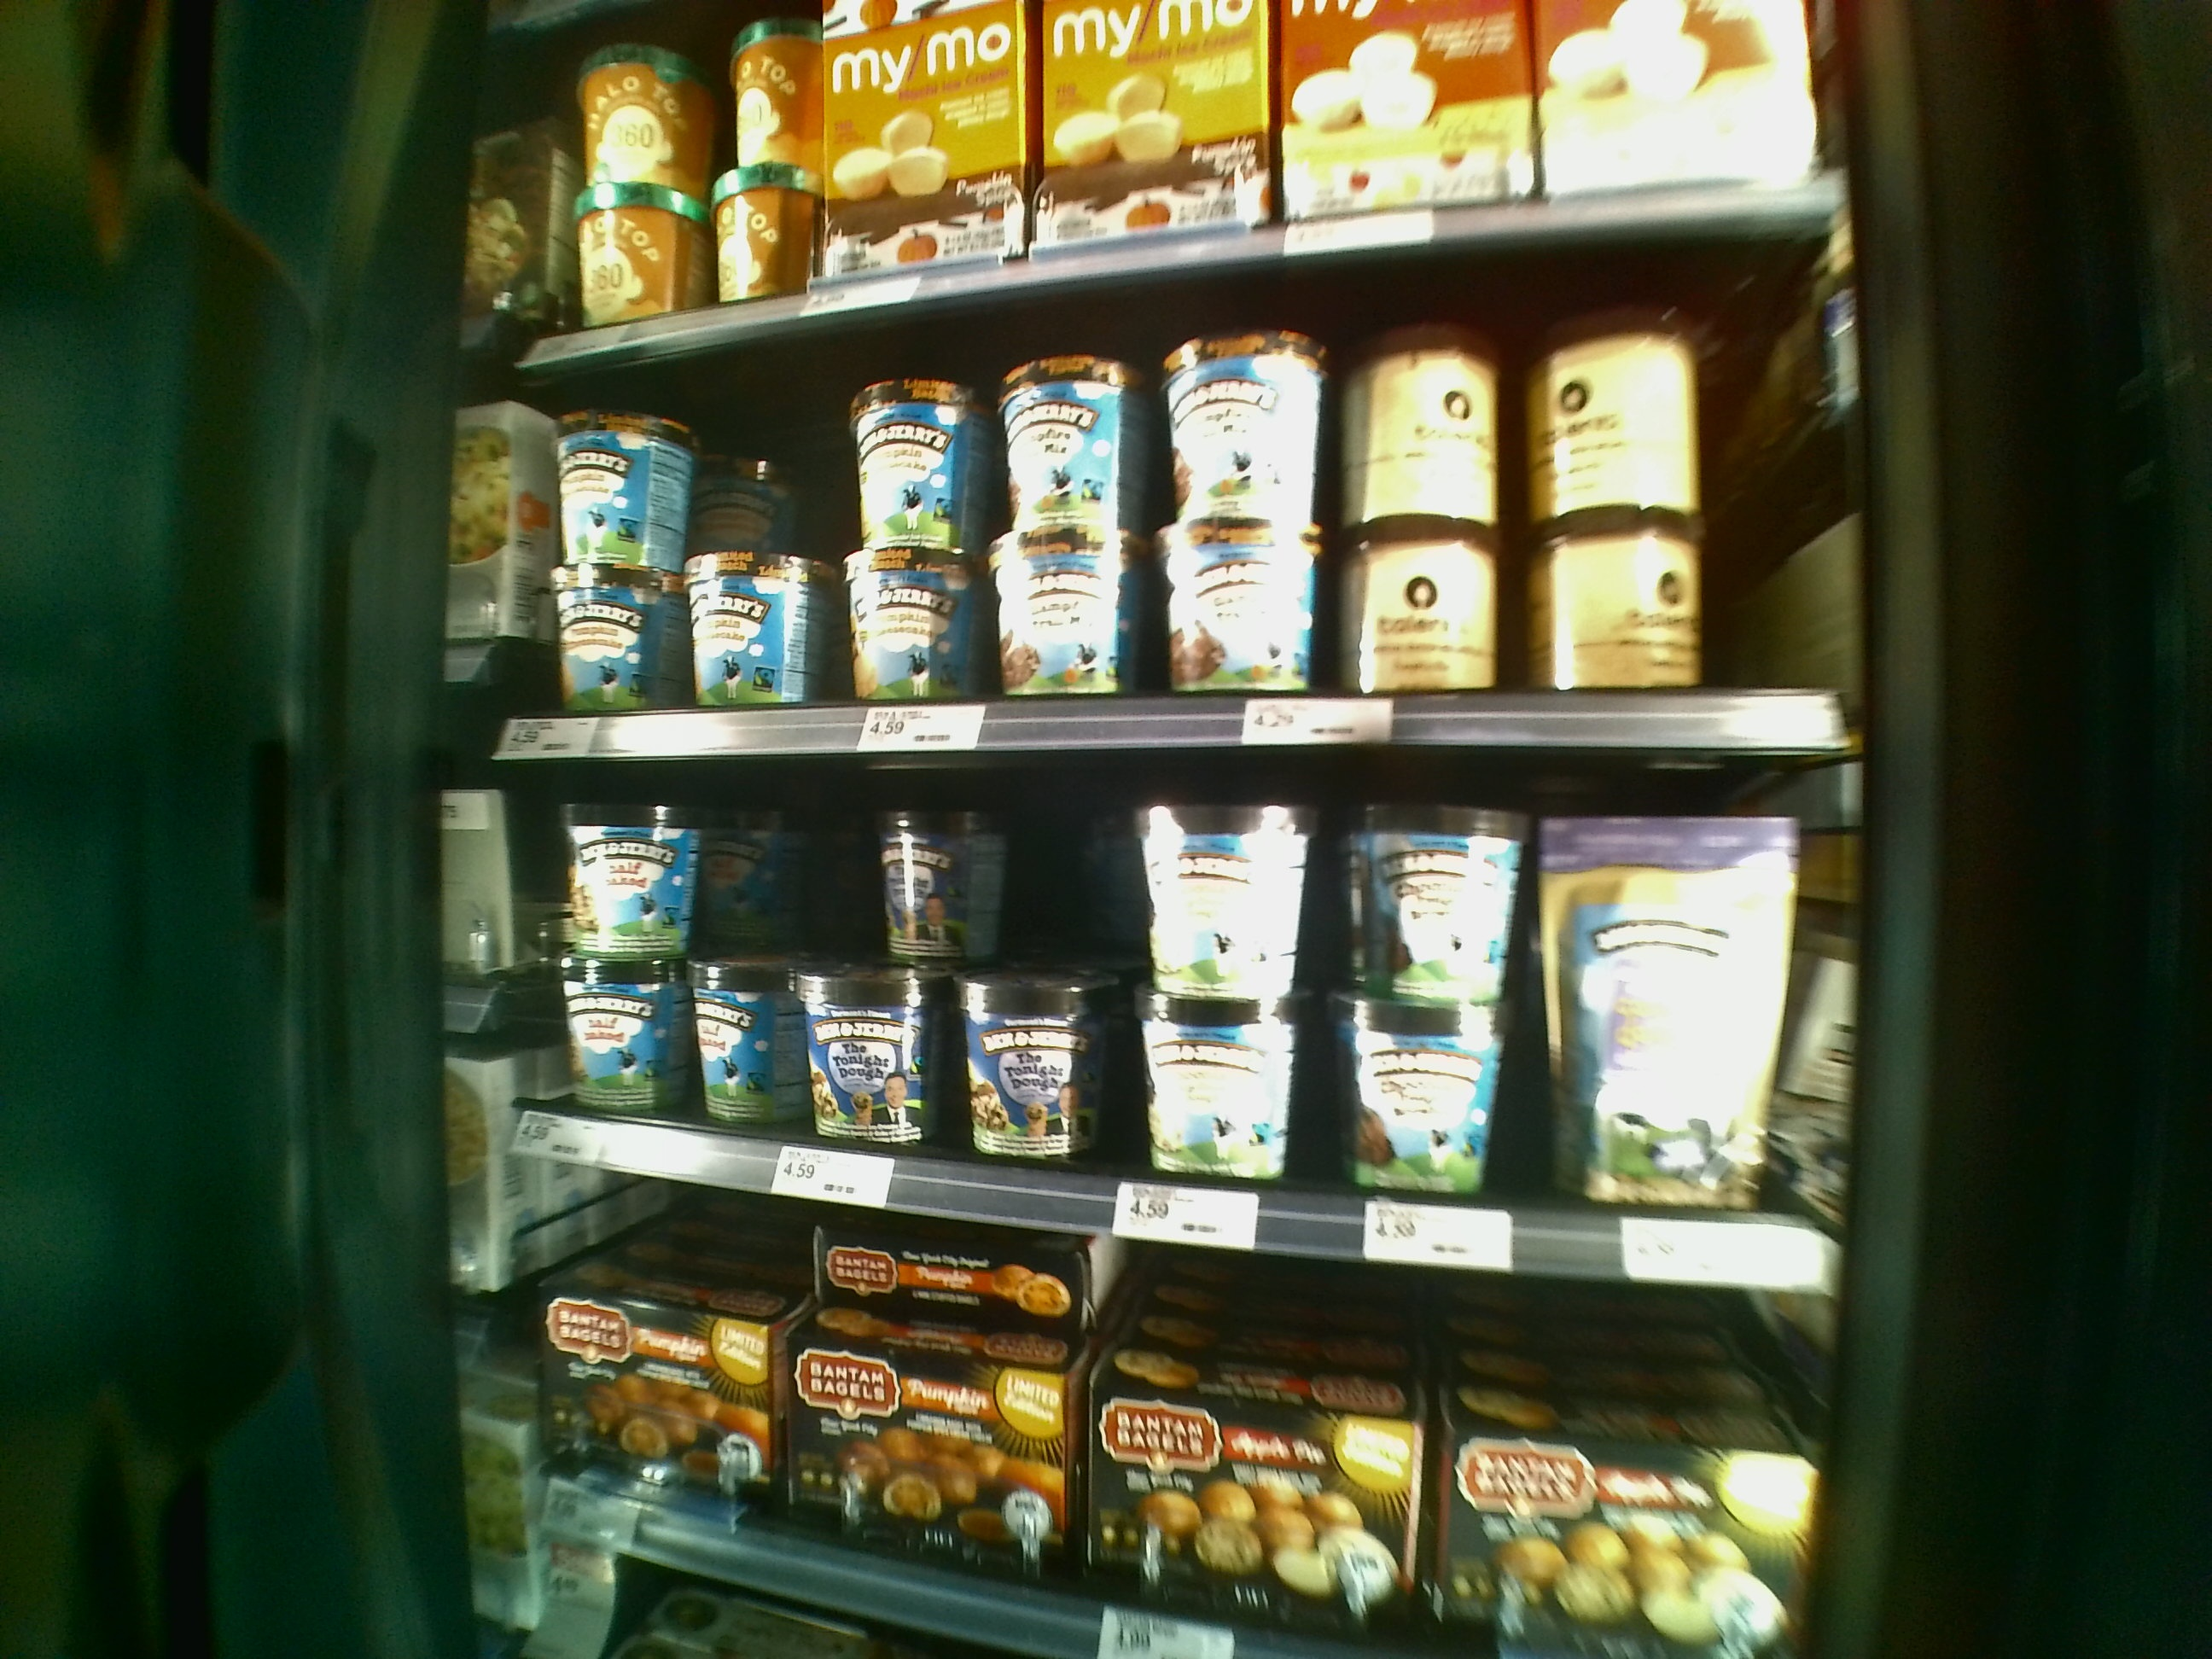shelf: (503, 723, 1848, 1272), (517, 296, 1864, 769)
